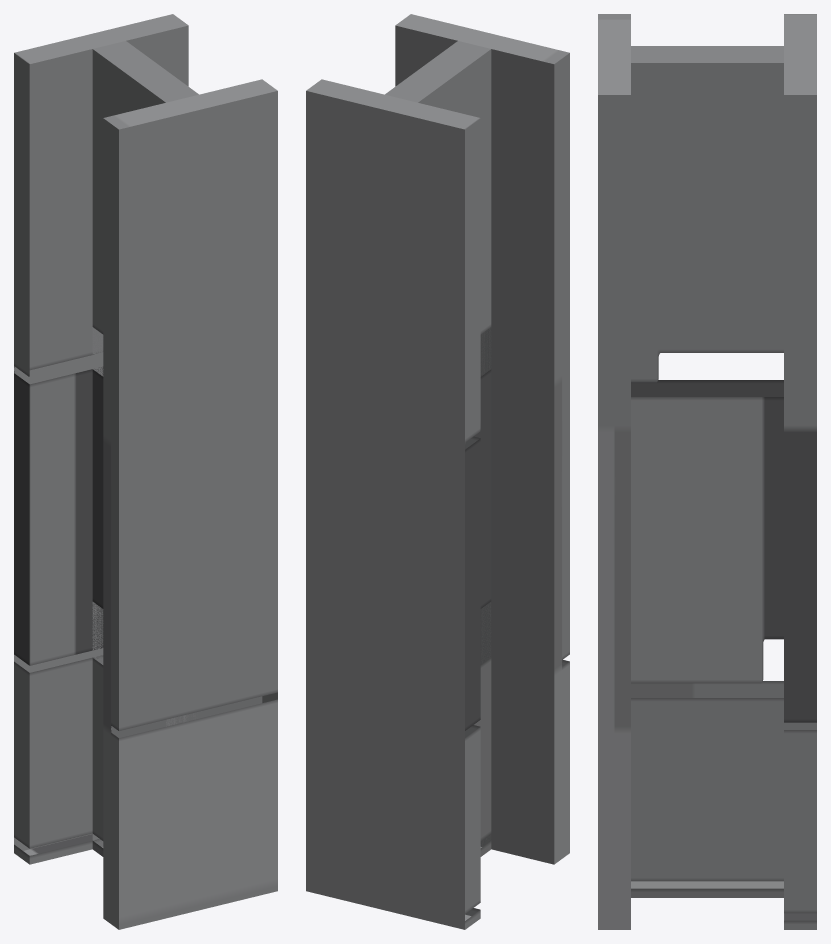
3 renders of one model, left to right at view 1: azimuth 30°, elevation 25°; view 2: azimuth 150°, elevation 25°; view 3: azimuth 270°, elevation 25°, orthographic. The views are drawn at different scales.
Bounding box in the file's own units: 0.21 × 1.01 × 0.24.
